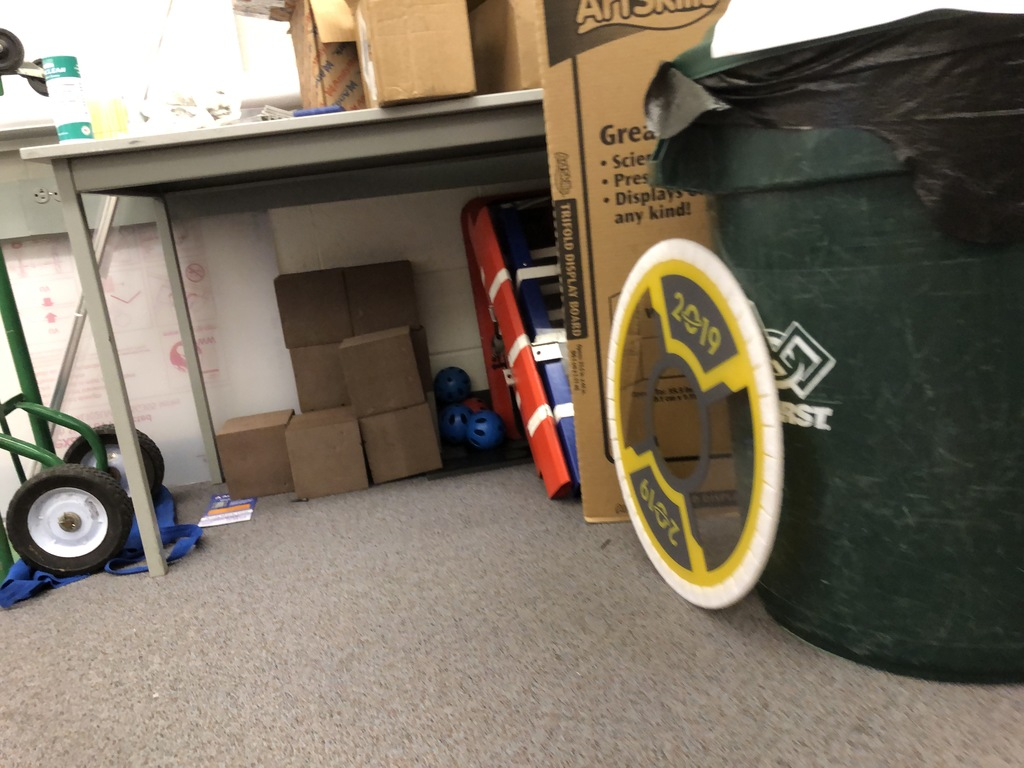hatch_panel: (609, 221, 787, 648)
